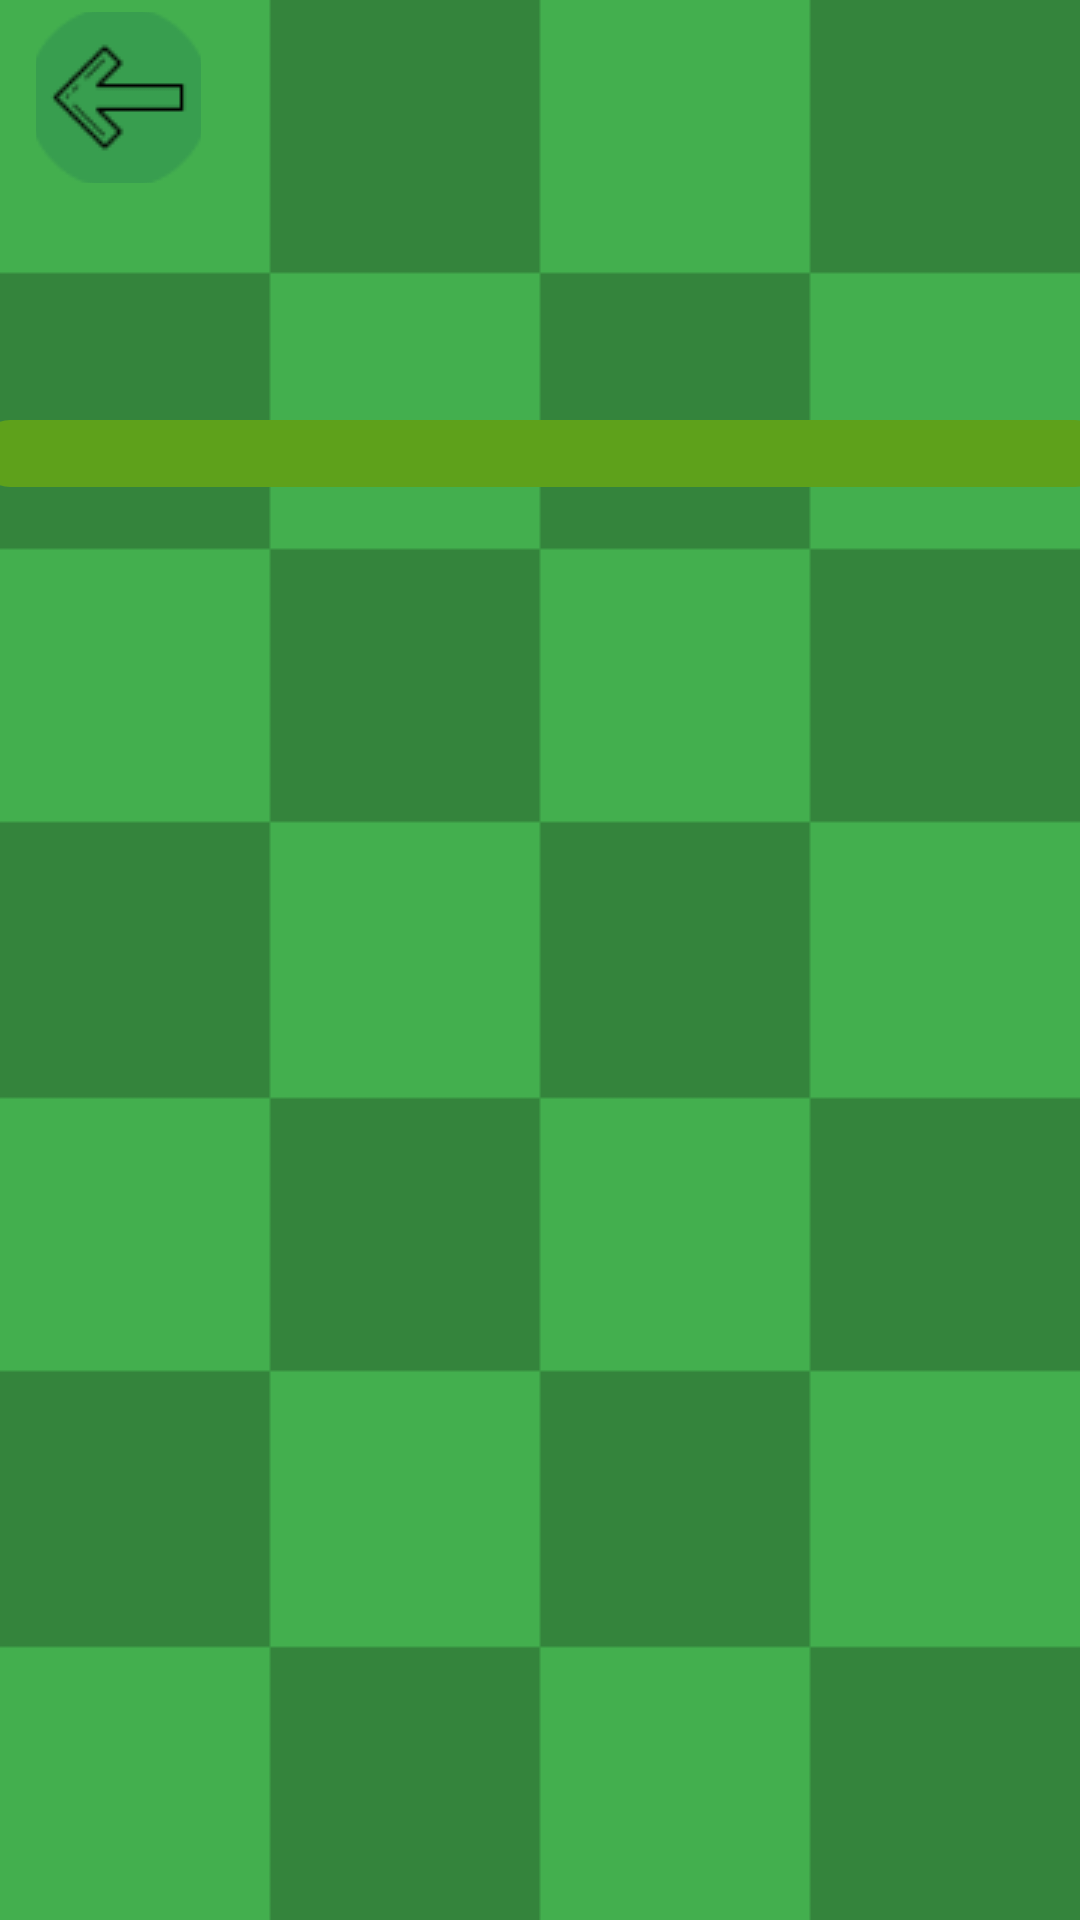

Point at icon controls on the screen. Image size 1080×1920, points as (x,y).
strelka: (118,97)
